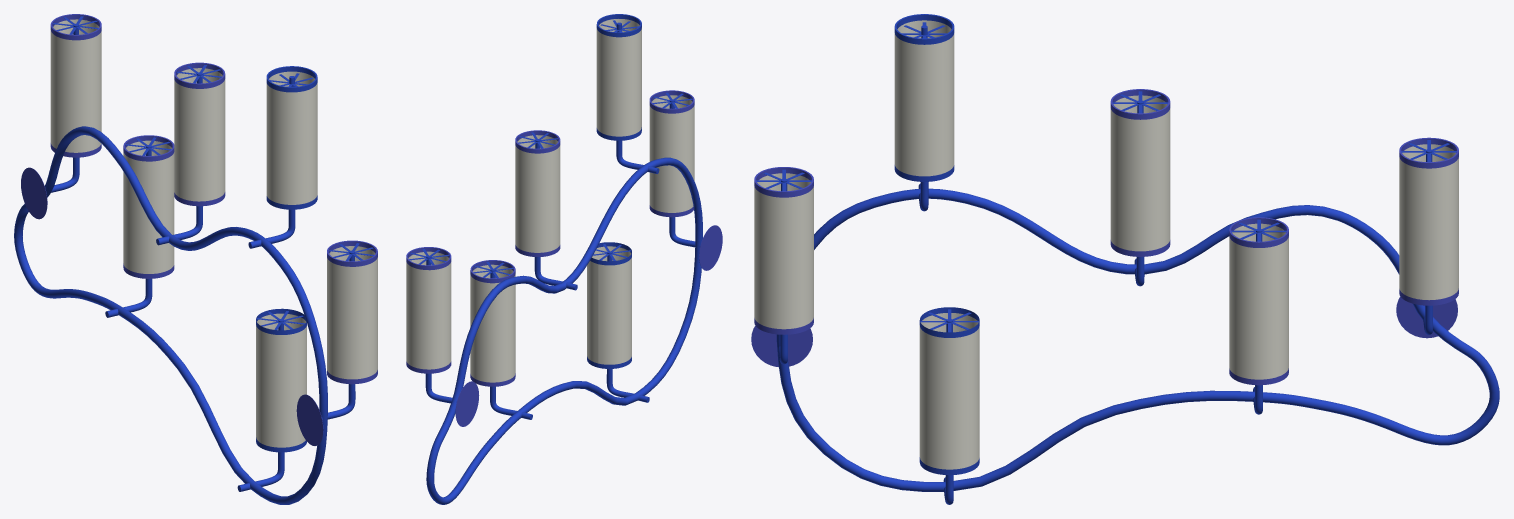
File: LOT(308)2.glb
3 views of the same model, side by side, from view 1: azimuth 30°, elevation 25°; view 2: azimuth 150°, elevation 25°; view 3: azimuth 270°, elevation 25° (orthographic). The views are drawn at different scales.
Parts seen in each view (by area): view 1: BezierCircle, Cylinder.004, Cylinder.010, Cylinder.002, Plane.017, Cylinder.011, Cylinder.020, Circle, Circle.001, NurbsPath.017, NurbsPath.020, NurbsPath.015 (+1 smaller); view 2: BezierCircle, Cylinder.004, Cylinder.010, Cylinder.011, Plane.017, Cylinder.002, Cylinder.020, Circle.001, Circle, NurbsPath.017; view 3: BezierCircle, Plane.017, Cylinder.004, Cylinder.010, Cylinder.020, Cylinder.011, Cylinder.002, Circle, Circle.001.
Boxes of the visible parts, x1,y1,x2,y2 form: BezierCircle: (14, 126, 327, 504); Cylinder.004: (266, 66, 317, 209); Cylinder.010: (174, 62, 225, 206); Cylinder.002: (327, 240, 377, 384); Plane.017: (256, 308, 306, 452); Cylinder.011: (50, 14, 101, 157); Cylinder.020: (123, 135, 174, 278); Circle: (296, 394, 323, 445); Circle.001: (21, 167, 47, 219); NurbsPath.017: (248, 209, 295, 248); NurbsPath.020: (105, 279, 152, 317); NurbsPath.015: (237, 452, 284, 491); BezierCircle: (426, 157, 702, 504); Cylinder.004: (596, 14, 641, 140); Cylinder.010: (515, 130, 560, 256); Cylinder.011: (406, 247, 451, 373); Plane.017: (587, 242, 631, 368); Cylinder.002: (649, 90, 694, 217); Cylinder.020: (470, 260, 515, 386); Circle.001: (455, 381, 479, 426); Circle: (699, 225, 722, 270); NurbsPath.017: (616, 140, 659, 173); BezierCircle: (776, 188, 1499, 491); Plane.017: (919, 307, 979, 475); Cylinder.004: (894, 14, 954, 181); Cylinder.010: (1110, 89, 1170, 256); Cylinder.020: (1229, 217, 1288, 385); Cylinder.011: (1399, 137, 1458, 305); Cylinder.002: (754, 167, 813, 334); Circle: (751, 326, 812, 367); Circle.001: (1396, 296, 1457, 338).
Bounding box in the file's own units: 0.427 × 2.57 × 3.62.
